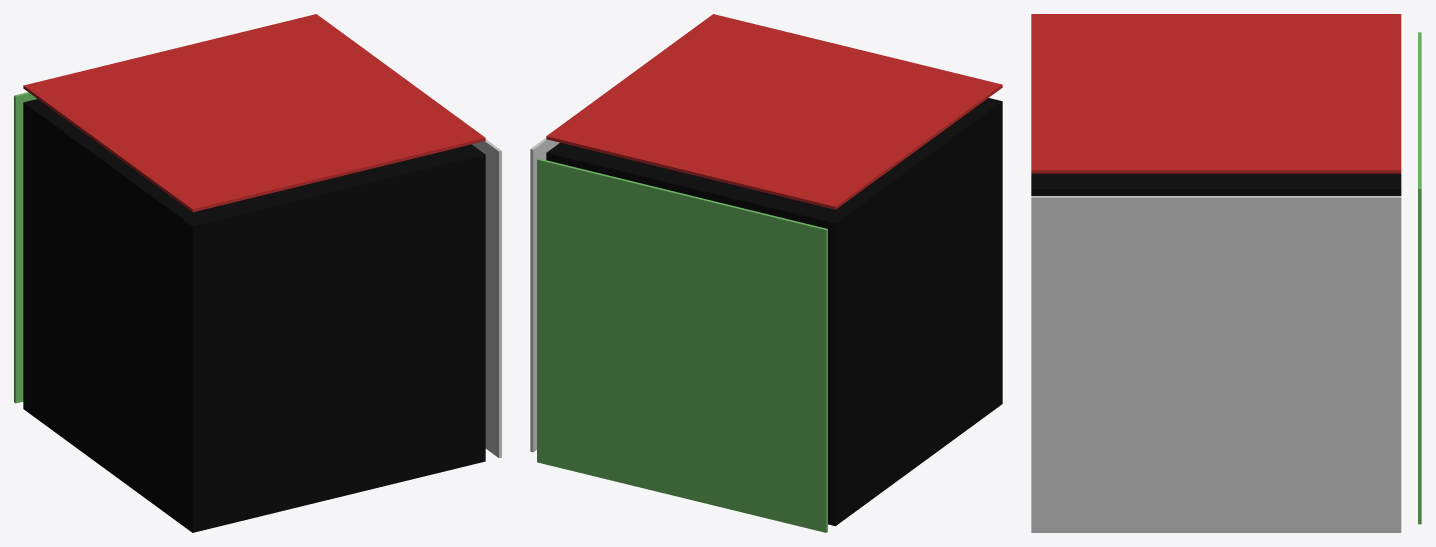
File: wrg.glb
3 renders of one model, left to right at view 1: azimuth 30°, elevation 25°; view 2: azimuth 150°, elevation 25°; view 3: azimuth 270°, elevation 25°, orthographic. The views are drawn at different scales.
Parts seen in each view (by area): view 1: Cube, red-3, yellow-1, green-1; view 2: green-1, Cube, red-3, yellow-1; view 3: yellow-1, red-3, Cube, green-1.
Boxes of the visible parts, x1,y1,x2,y2 form: Cube: [23, 99, 485, 532]; red-3: [23, 14, 485, 212]; yellow-1: [472, 139, 501, 457]; green-1: [14, 92, 36, 403]; green-1: [537, 158, 827, 532]; Cube: [546, 98, 1002, 526]; red-3: [546, 14, 1002, 209]; yellow-1: [530, 137, 559, 452]; yellow-1: [1031, 196, 1401, 532]; red-3: [1031, 14, 1401, 173]; Cube: [1031, 173, 1401, 195]; green-1: [1418, 32, 1421, 524].
Bounding box in the file's own units: 2.11 × 2.11 × 2.11.
